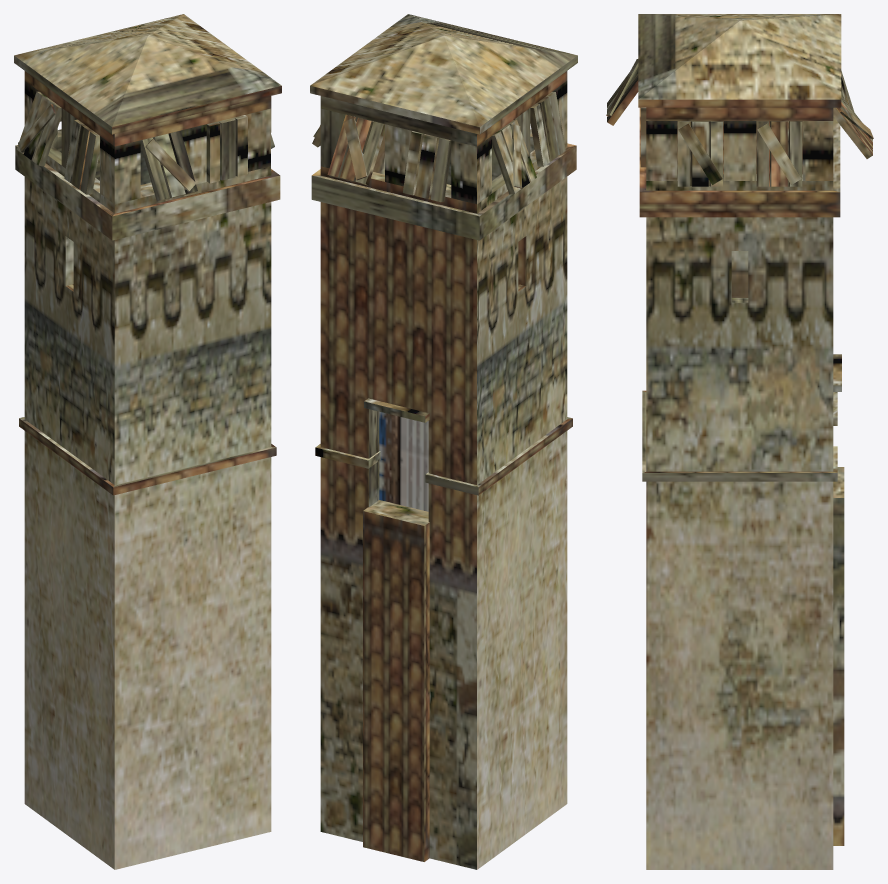
Rendered from wall_tower.glb.
3 views of the same model, side by side, from view 1: azimuth 30°, elevation 25°; view 2: azimuth 150°, elevation 25°; view 3: azimuth 270°, elevation 25° (orthographic). The views are drawn at different scales.
Visible parts, largest first — view 1: wall_tower; view 2: wall_tower; view 3: wall_tower.
Part boxes in pixels (x1=…): wall_tower: x1=14, y1=14, x2=281, y2=869; wall_tower: x1=310, y1=14, x2=577, y2=869; wall_tower: x1=606, y1=14, x2=873, y2=869.
Bounding box in the file's own units: 2.02 × 7.34 × 2.2.
2 materials, 2 textured.
